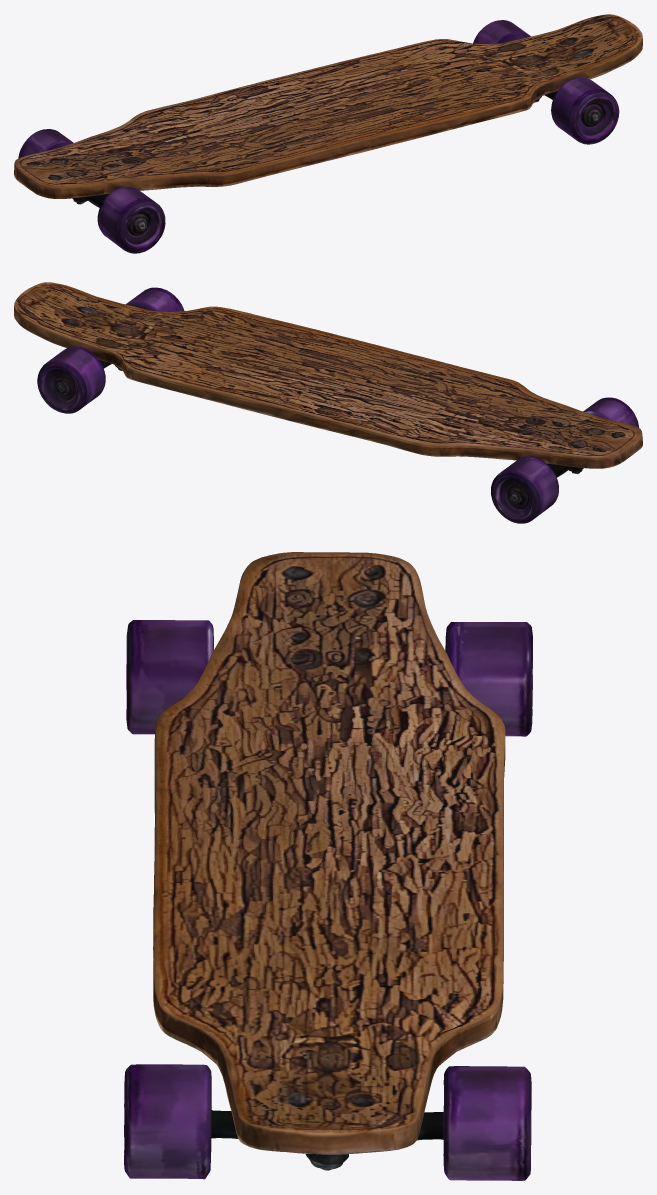
Rendered from CCG_Deck_PurpledownDrip_web.glb.
The picture shows the model from 3 angles, top to bottom: view 1: azimuth 30°, elevation 25°; view 2: azimuth 150°, elevation 25°; view 3: azimuth 270°, elevation 25°; orthographic projection. The views are drawn at different scales.
Visible parts, largest first — view 1: SM_Deck_PurpledownDrip; view 2: SM_Deck_PurpledownDrip; view 3: SM_Deck_PurpledownDrip.
Boxes of the visible parts, bbox=[...] form: SM_Deck_PurpledownDrip: bbox=[14, 14, 642, 253]; SM_Deck_PurpledownDrip: bbox=[14, 282, 642, 523]; SM_Deck_PurpledownDrip: bbox=[124, 552, 532, 1180].
Bounding box in the file's own units: 0.82 × 0.0824 × 0.2391.
Materials: 1 (1 with a texture image).
